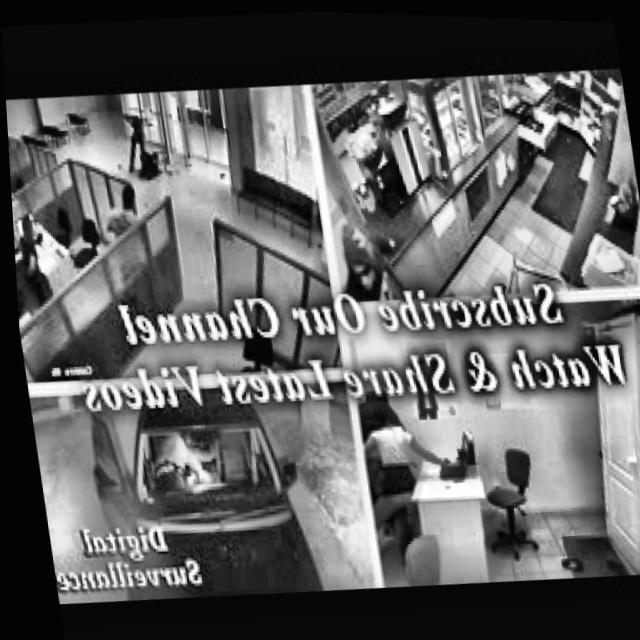robbery: (351, 386, 467, 571)
